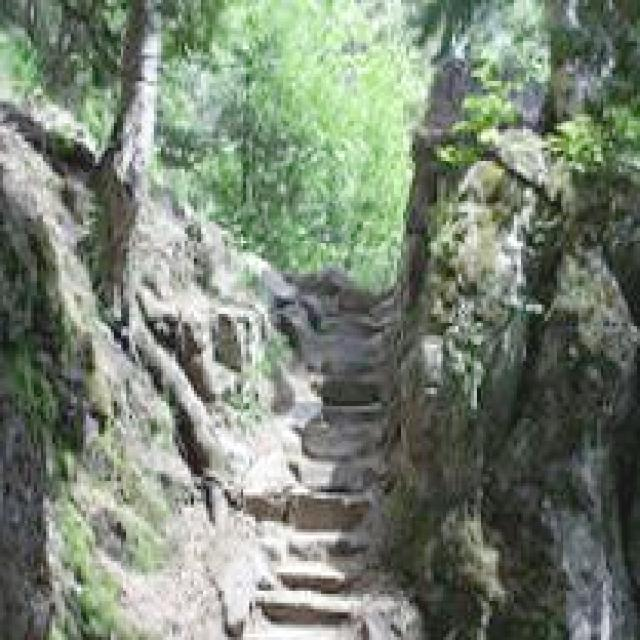upstair: (266, 321, 380, 640)
